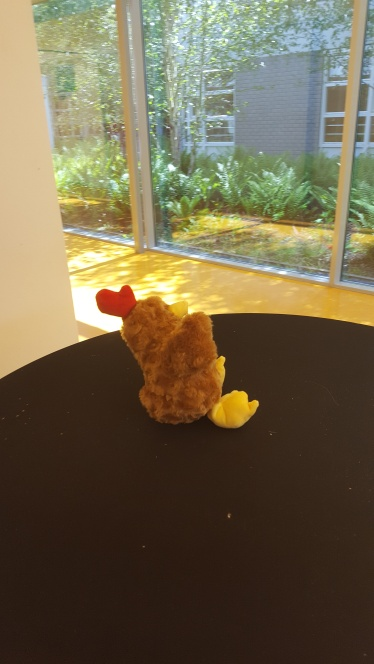chicken_left: (94, 284, 259, 430)
